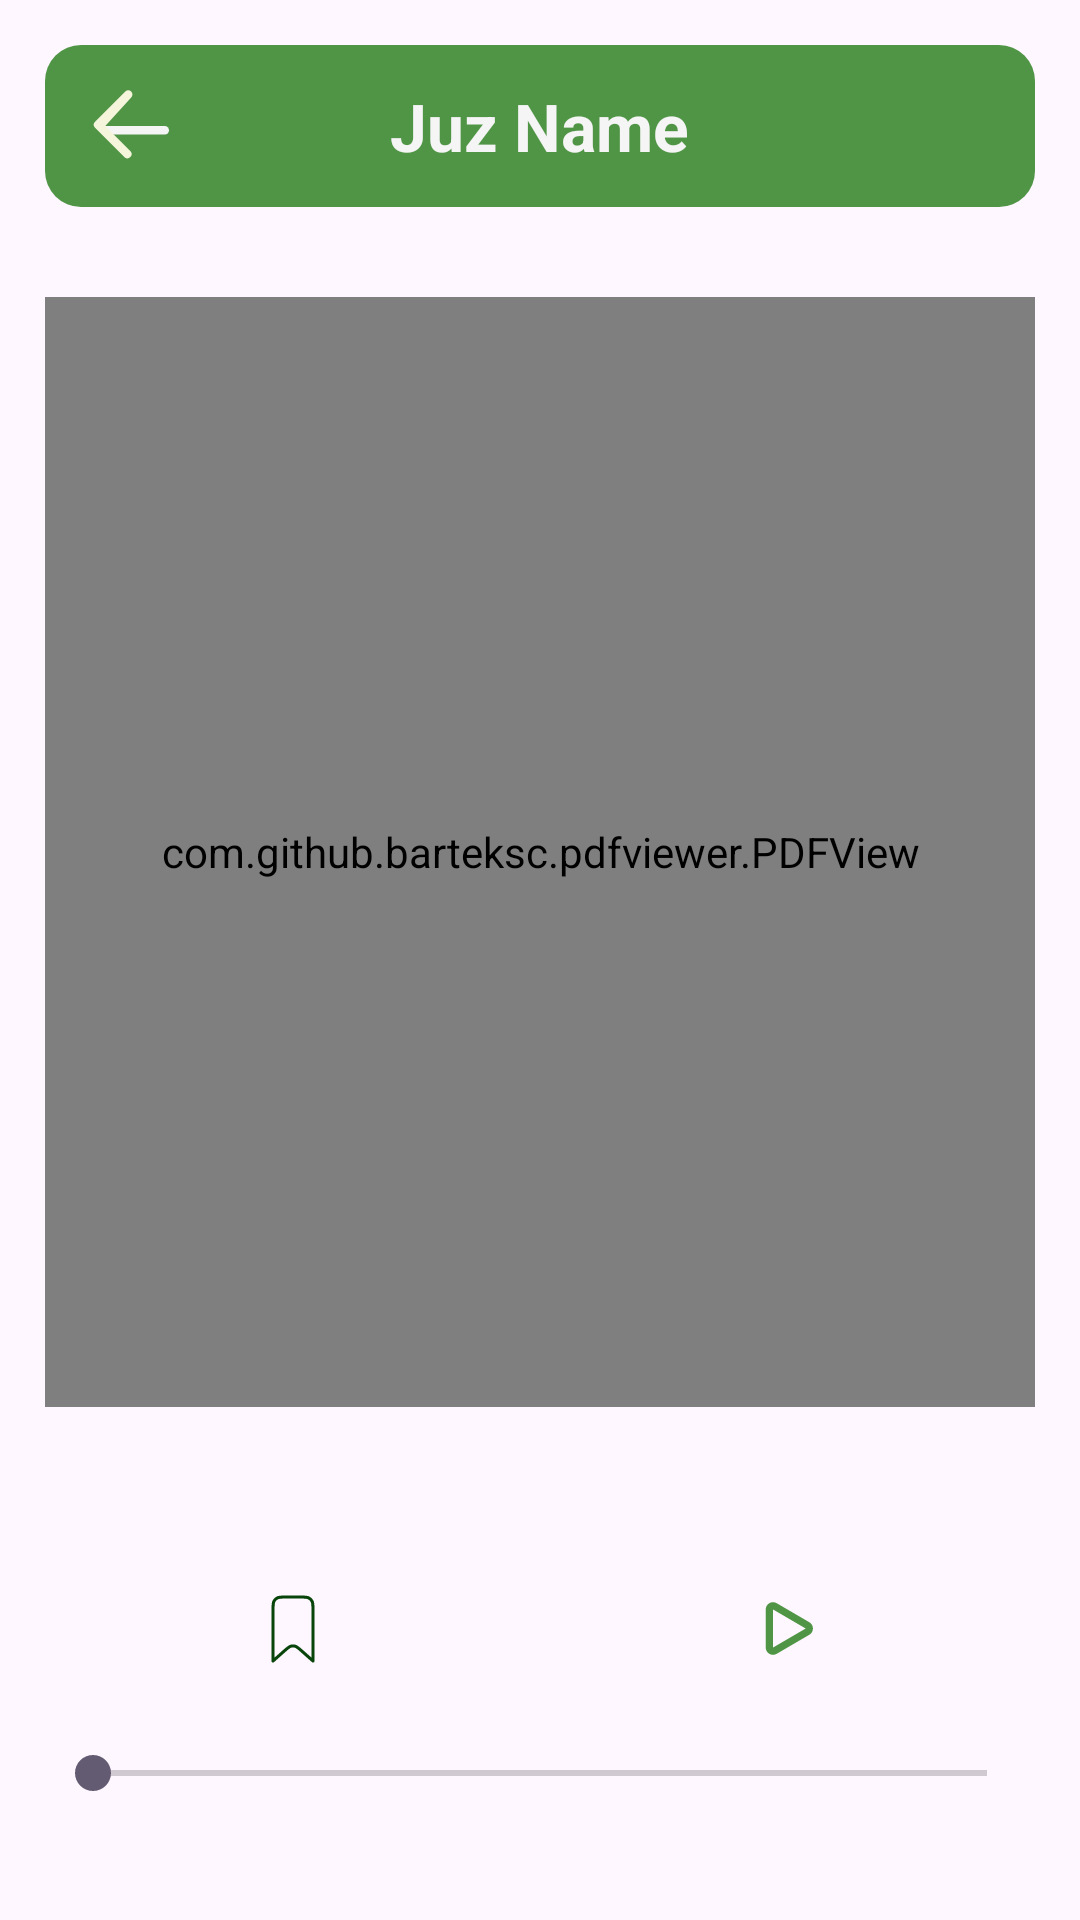

Named icons in this screenshot (1080w x 1920h) and their centers, point (x, y):
Back: point (131, 124)
Bookmark: point (293, 1629)
Play/Pause: point (789, 1628)
